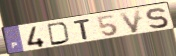4: (26, 25, 47, 48)
5: (95, 13, 119, 37)
D: (46, 21, 72, 46)
S: (145, 7, 171, 30)
T: (72, 18, 92, 41)
V: (117, 9, 142, 34)
